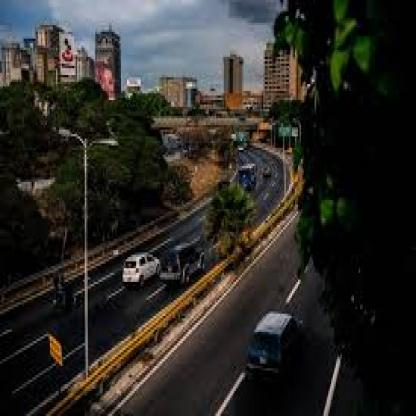car: (238, 306, 304, 391), (158, 221, 204, 291), (118, 241, 165, 294), (220, 152, 261, 199)
